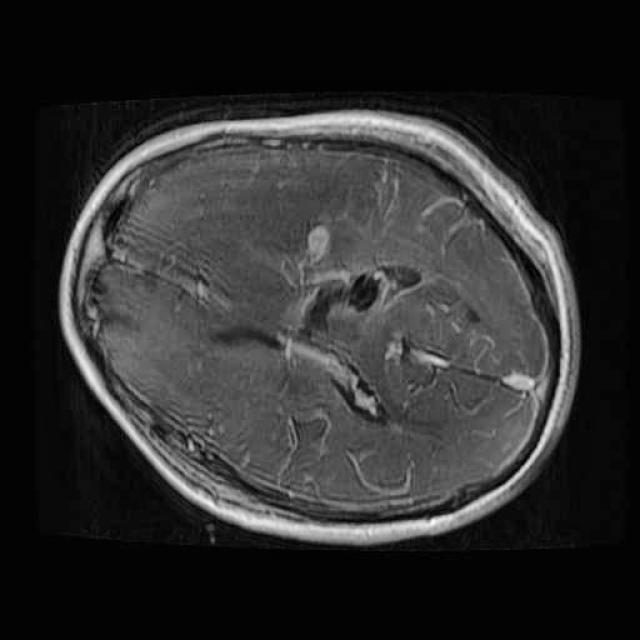Non-Tumor: (294, 255, 431, 341)
